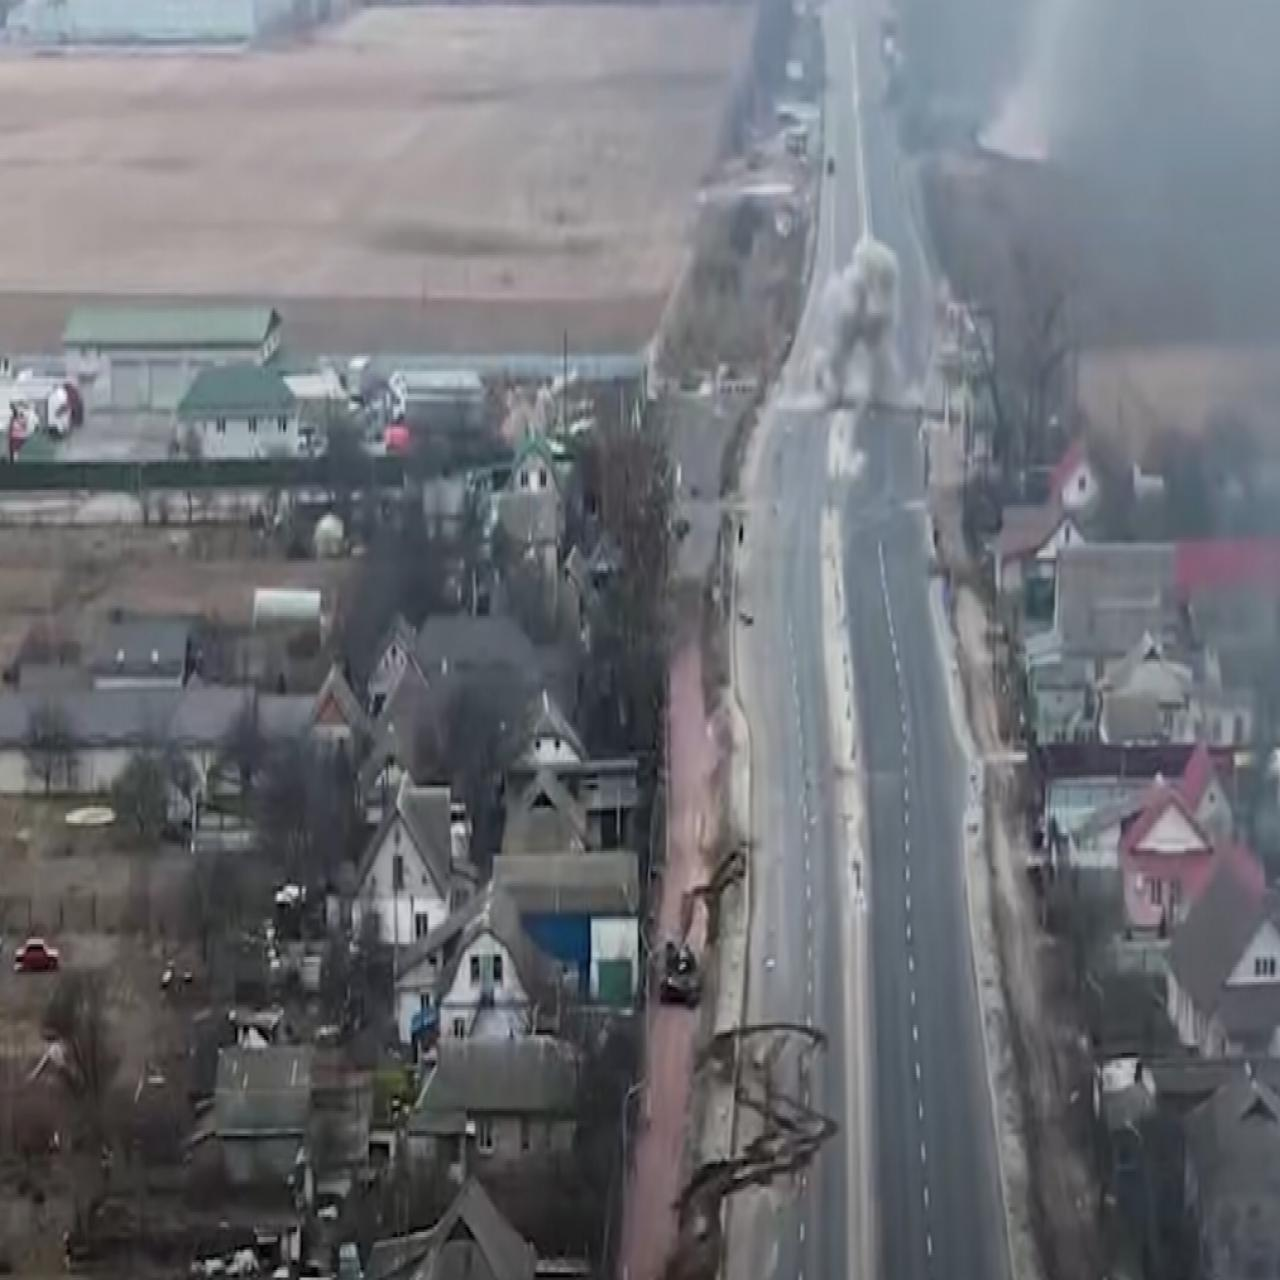MIL_Veh: (653, 935, 704, 1010)
